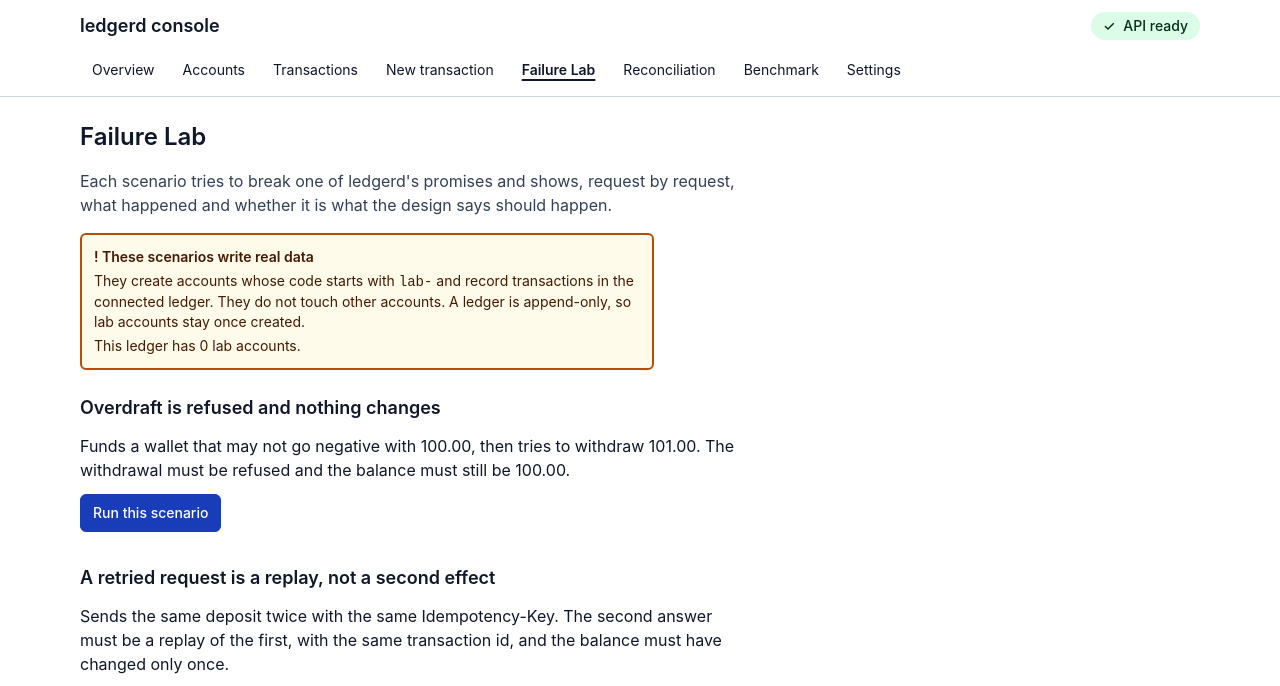
Test: running a scenario (R9.2 to R9.4) › announces the verdict without moving focus
Check: the heading "Failure Lab" is shown, box 80,121 -> 206,153
Click the button "Run this scenario" below "Overdraft is refused and nothing changes" at x=151, y=513, box 80,494 -> 221,532
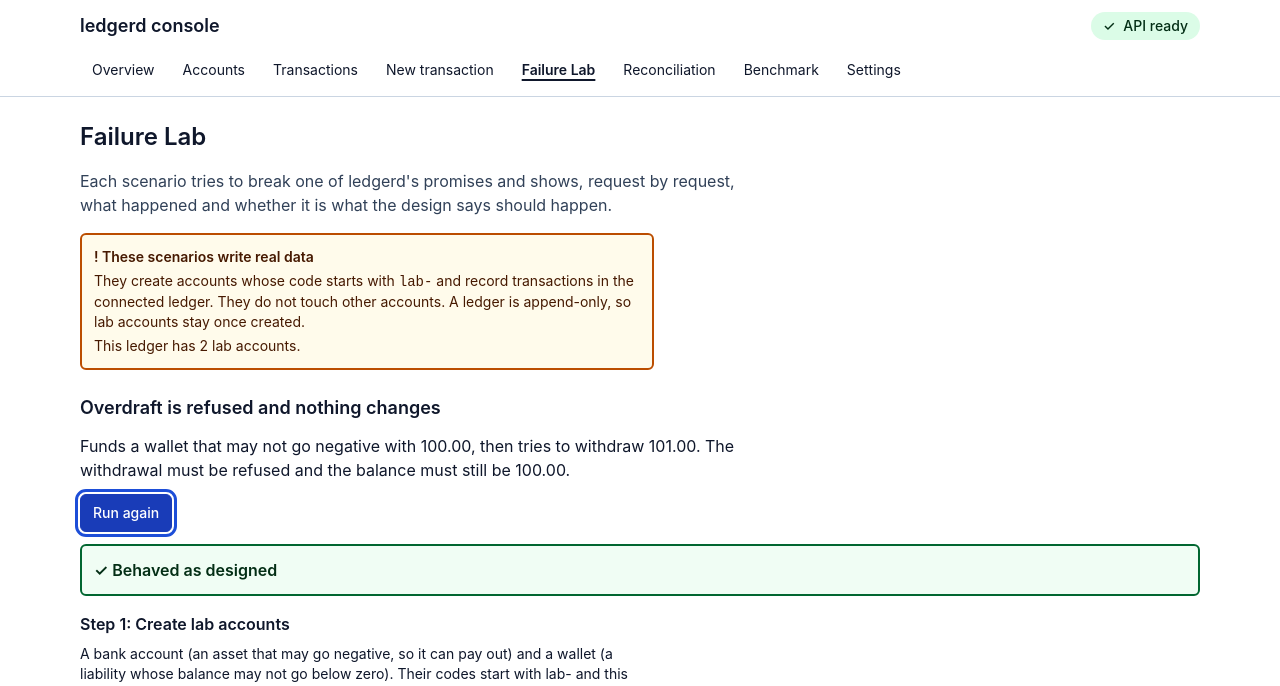
Check: the text "✓ Behaved as designed" is shown, box 80,544 -> 1200,596
